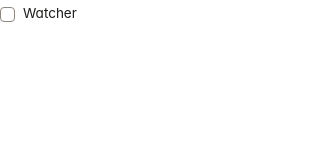
Test case: Checkbox › is a native checkbox named by its label, toggled by the label
Expected: the checkbox labelled "Watcher" is not checked, [0,5,77,22]
What coordinates should you click on to do the following:
click the text "Watcher"
I would click on:
 (50, 14)
Its box is [23,4,77,24].
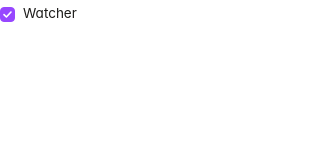
Now the checkbox labelled "Watcher" is checked, box [0,5,77,22]
